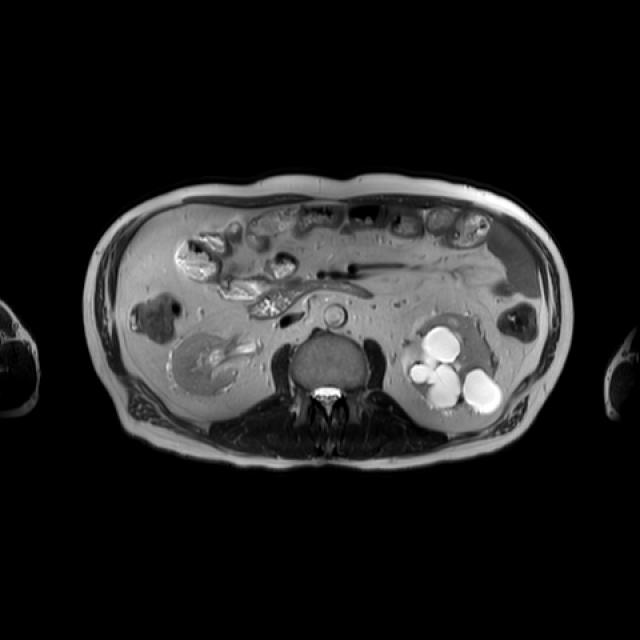sag: (169, 333, 242, 397)
sol: (403, 315, 503, 416)
